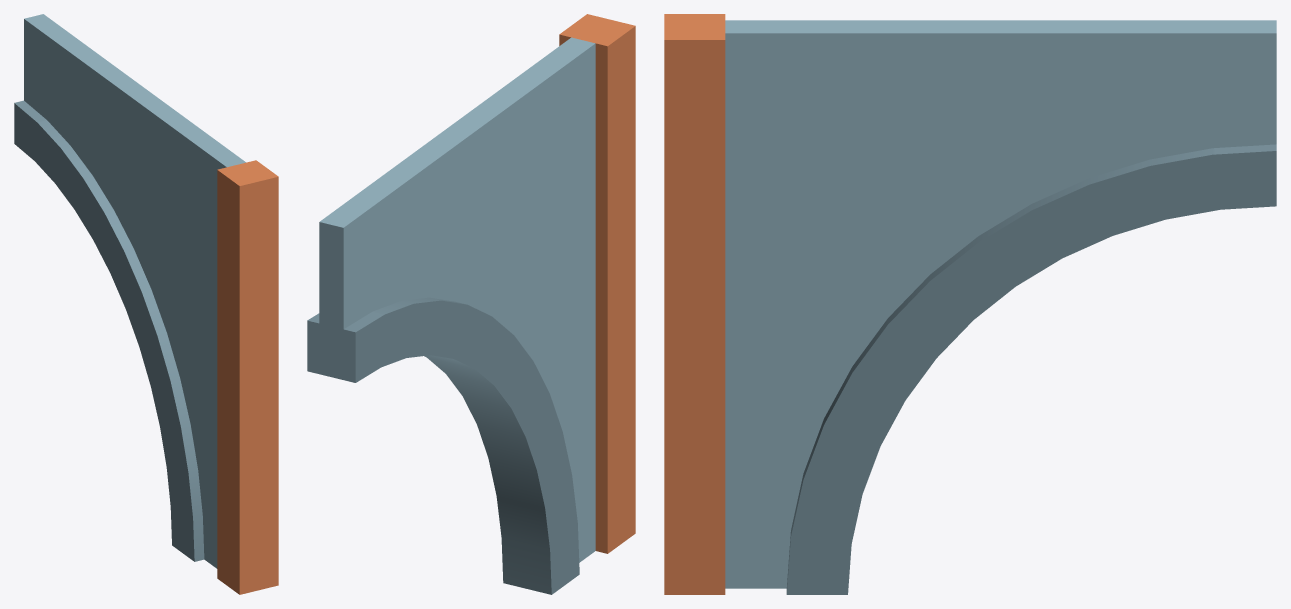
Rendered from wallArchTop.fbx.
The picture shows the model from 3 angles, left to right: view 1: azimuth 30°, elevation 25°; view 2: azimuth 150°, elevation 25°; view 3: azimuth 270°, elevation 25°; orthographic projection. The views are drawn at different scales.
Parts seen in each view (by area): view 1: wallArchTop; view 2: wallArchTop; view 3: wallArchTop.
Boxes of the visible parts, x1,y1,x2,y2 form: wallArchTop: (14, 14, 278, 594); wallArchTop: (307, 14, 635, 594); wallArchTop: (664, 14, 1276, 594).
Size of the model in its own units: 1 by 10 by 10.
